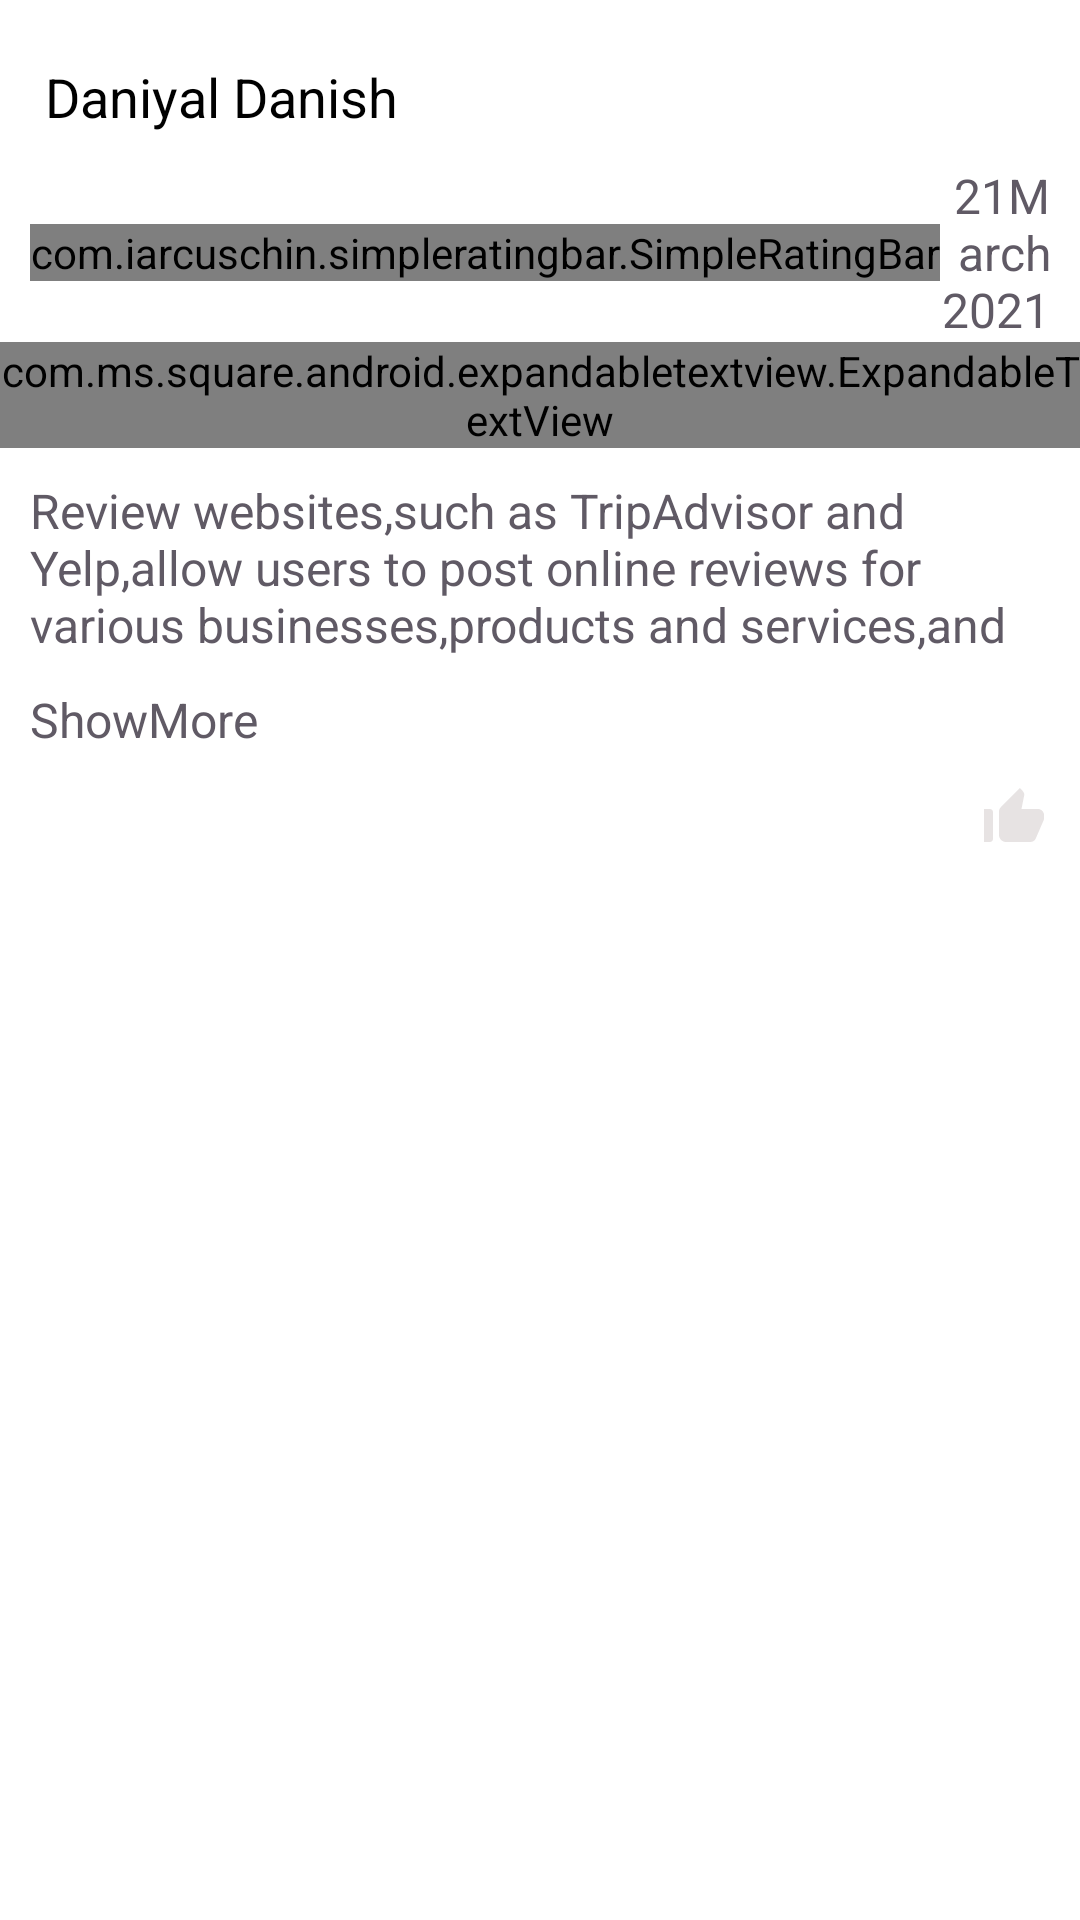

Where to tap for icons on this 1080*1920 app screen, as [x,y]:
thumb: [1014,815]
